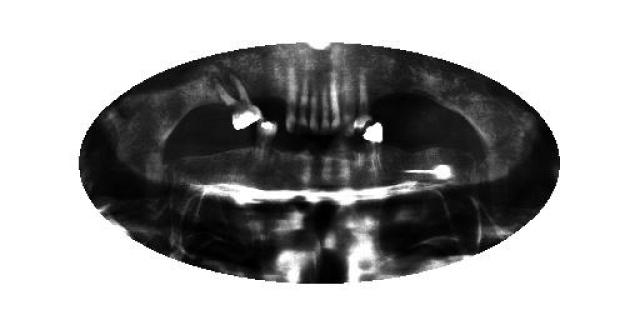Fillings: (214, 76, 262, 132), (255, 118, 277, 174), (362, 122, 383, 178)
